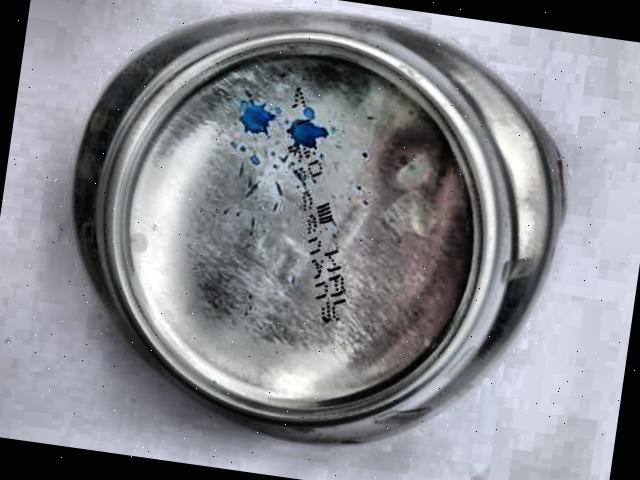Bottles: (26, 0, 601, 469)
